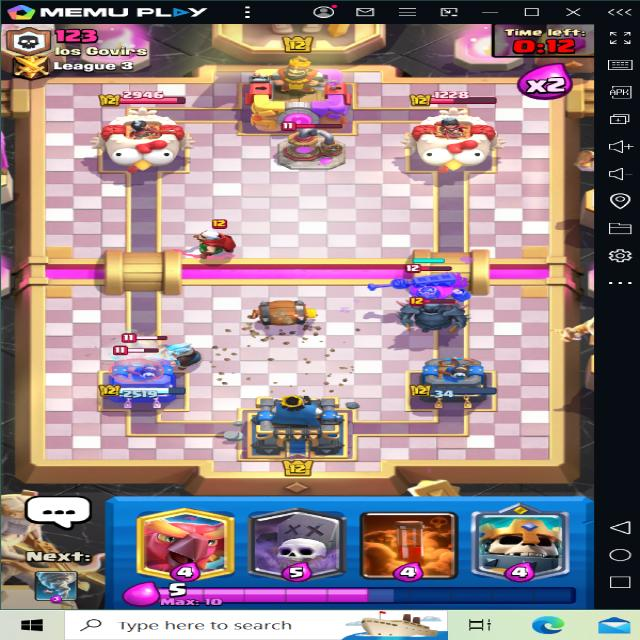barbarian: (107, 327, 177, 352), (112, 346, 168, 369)
elixir-collector: (268, 121, 356, 177)
magic-archer: (174, 220, 244, 260)
pekka: (396, 292, 474, 335)
skeleton-king: (378, 255, 482, 309)
